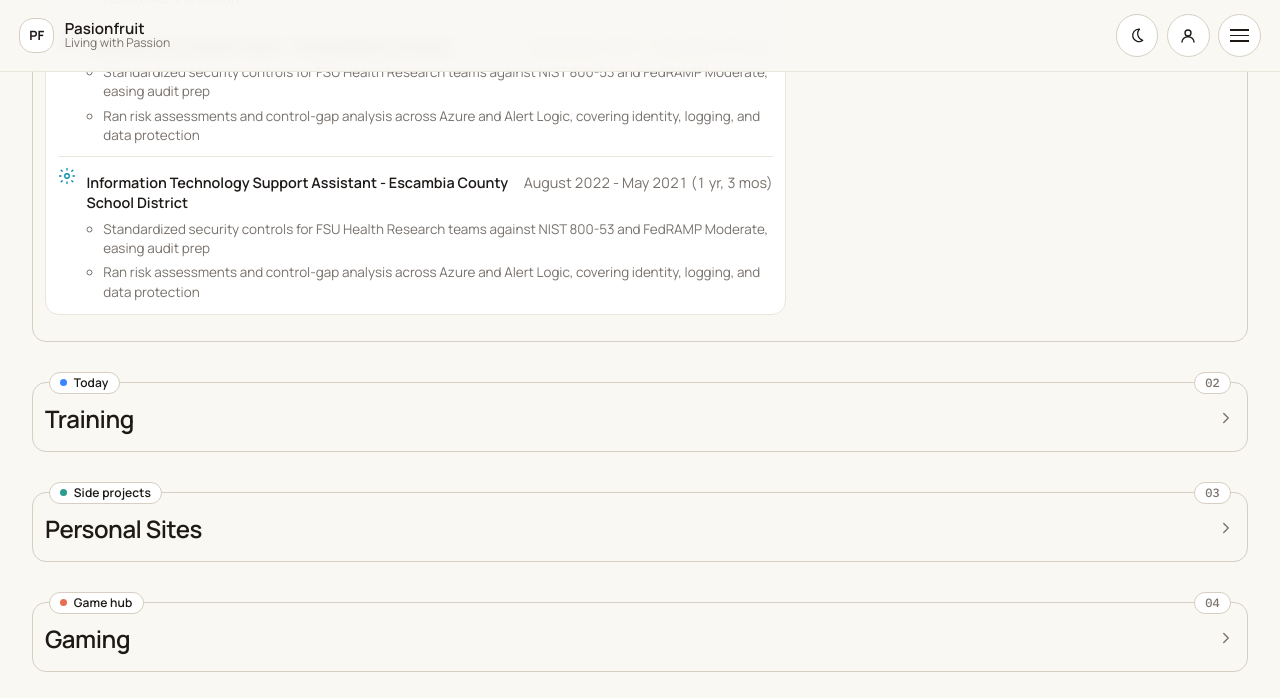
Test: guest home page › shows guests today's workout, then the training log and countdown, read-only
This screenshot has width=1280, height=698.
(page scrolled)
Step 1. Click the button with class "home-section-toggle" showing "Today Training" → (89, 419), box [45,399,1235,439]
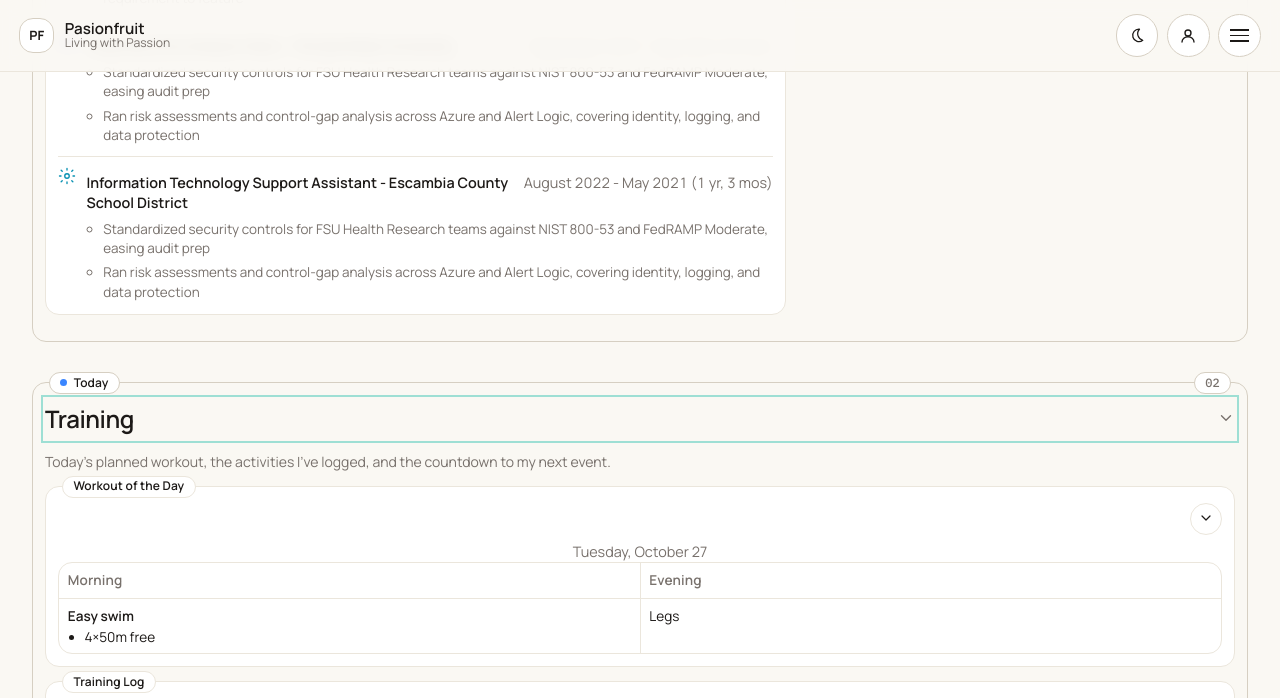
Result: the text "Easy swim" is shown at [68,607,134,625]
Result: the text "Legs" is shown at [649,607,679,625]
Result: the column headings read "Morning", "Evening", in this order at [59,563,640,598]; [640,563,1221,598]
